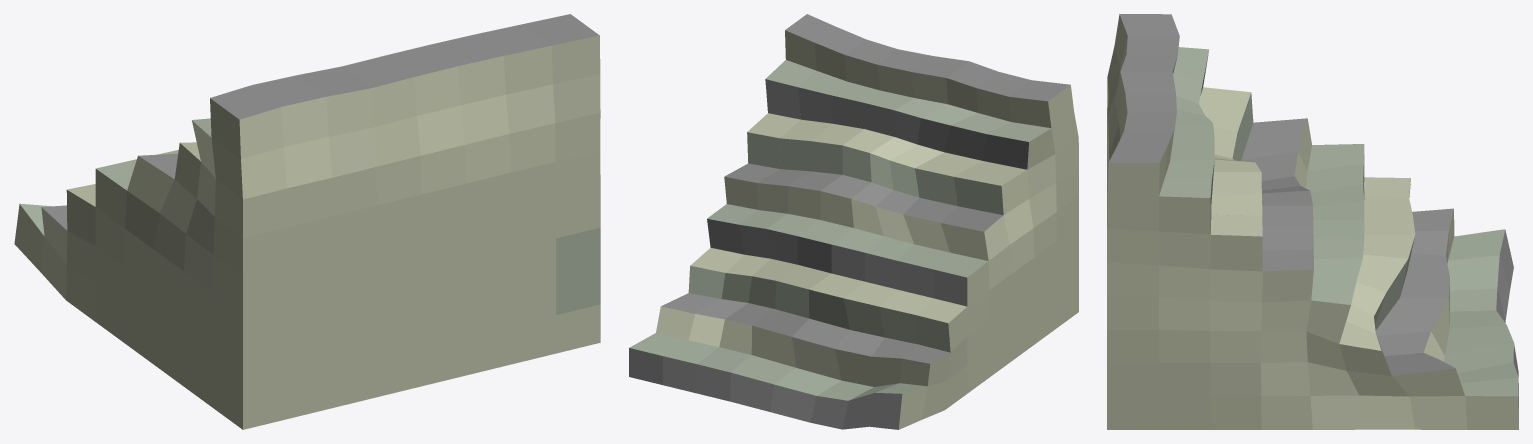
File: Escalier déformé.fbx
3 renders of one model, left to right at view 1: azimuth 30°, elevation 25°; view 2: azimuth 150°, elevation 25°; view 3: azimuth 270°, elevation 25°, orthographic. The views are drawn at different scales.
Visible parts, largest first — view 1: Stairs V0.001; view 2: Stairs V0.001; view 3: Stairs V0.001.
Boxes of the visible parts, x1=… form: Stairs V0.001: x1=14, y1=14, x2=600, y2=429; Stairs V0.001: x1=629, y1=14, x2=1078, y2=429; Stairs V0.001: x1=1107, y1=14, x2=1518, y2=429.
Size of the model in its own units: 144 by 121 by 163.
